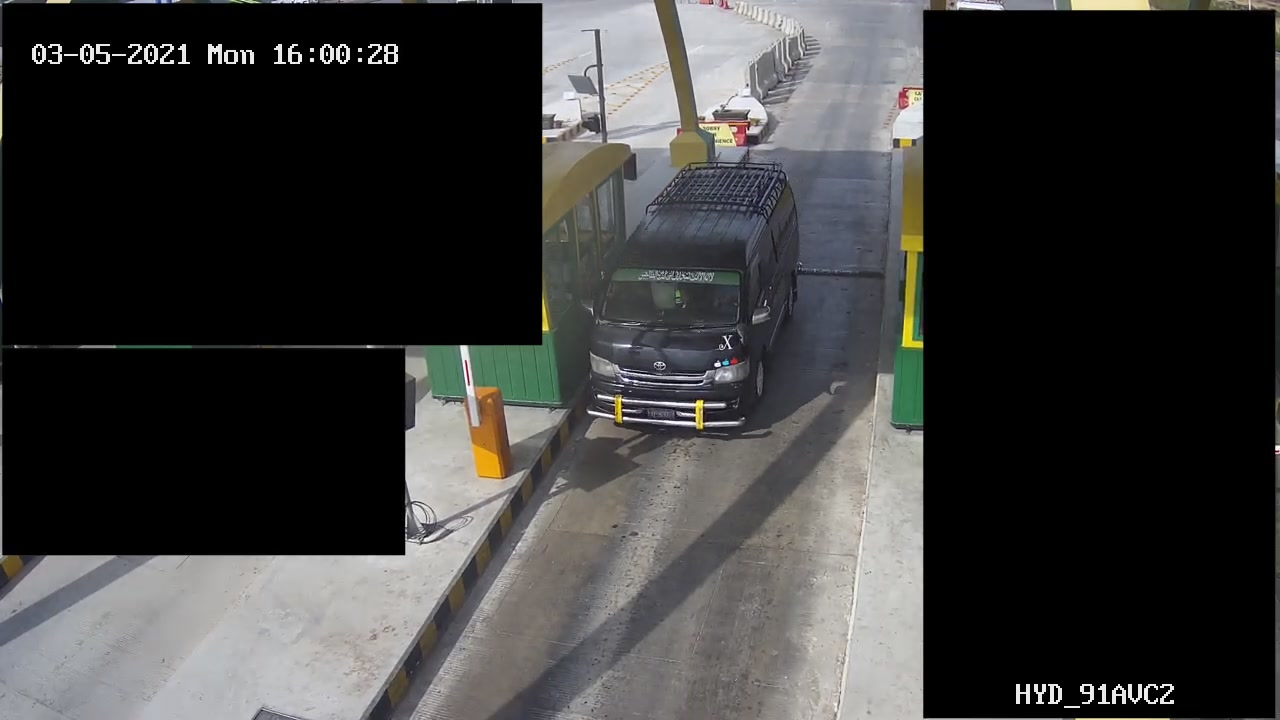F2: (577, 160, 816, 434)
